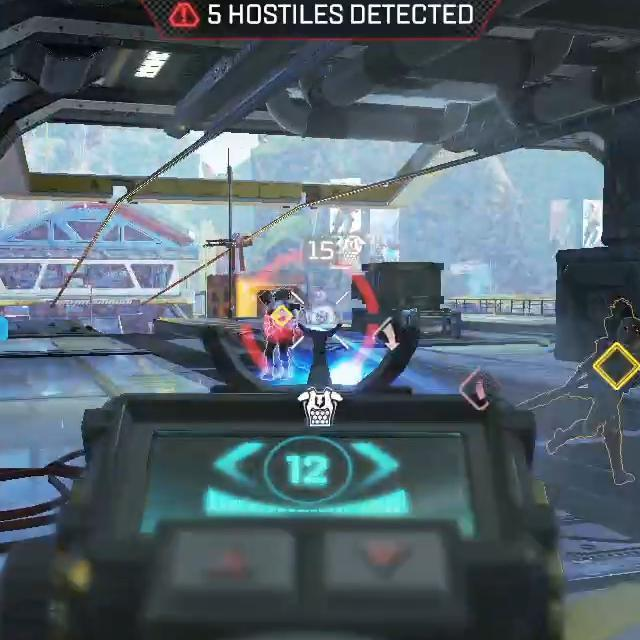avatar: (543, 296, 640, 491), (260, 285, 296, 380)
object: (591, 340, 640, 393), (271, 302, 294, 331)
